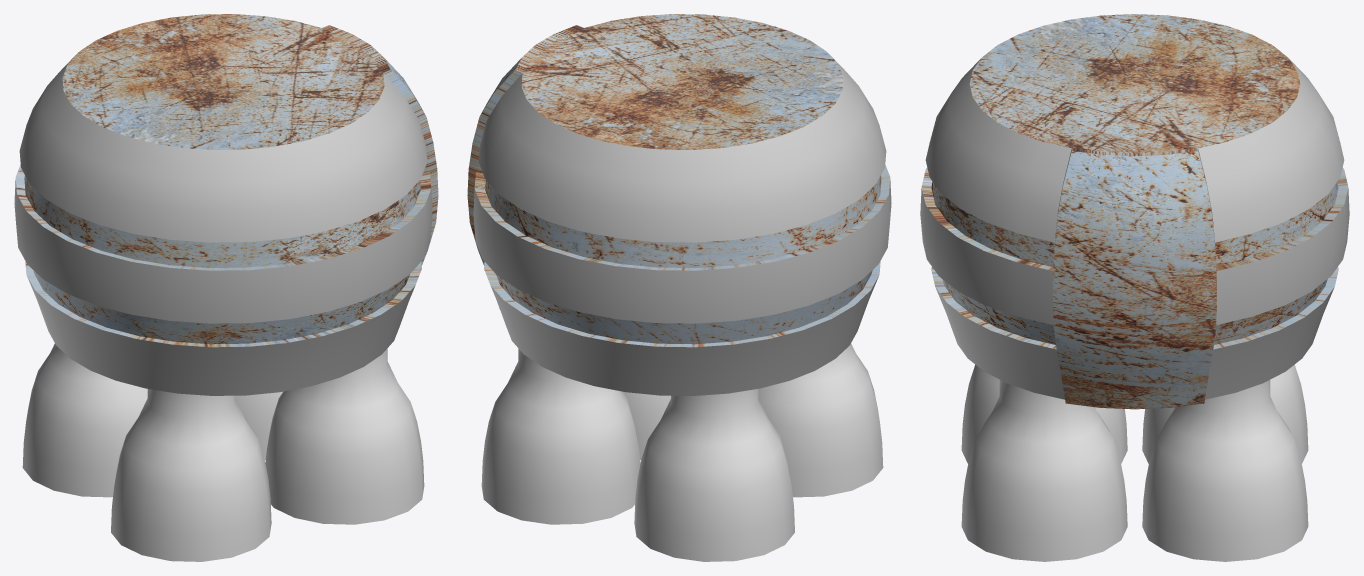
Rendered from QuadThruster.fbx.
The picture shows the model from 3 angles, left to right: view 1: azimuth 30°, elevation 25°; view 2: azimuth 150°, elevation 25°; view 3: azimuth 270°, elevation 25°; orthographic projection. The views are drawn at different scales.
Parts seen in each view (by area): view 1: Cylinder; view 2: Cylinder; view 3: Cylinder.
Boxes of the visible parts, box(x1,y1,x2,y2) form: Cylinder: box(14, 14, 438, 561); Cylinder: box(467, 14, 891, 561); Cylinder: box(920, 14, 1349, 561).
Bounding box in the file's own units: 186 × 190 × 182.
